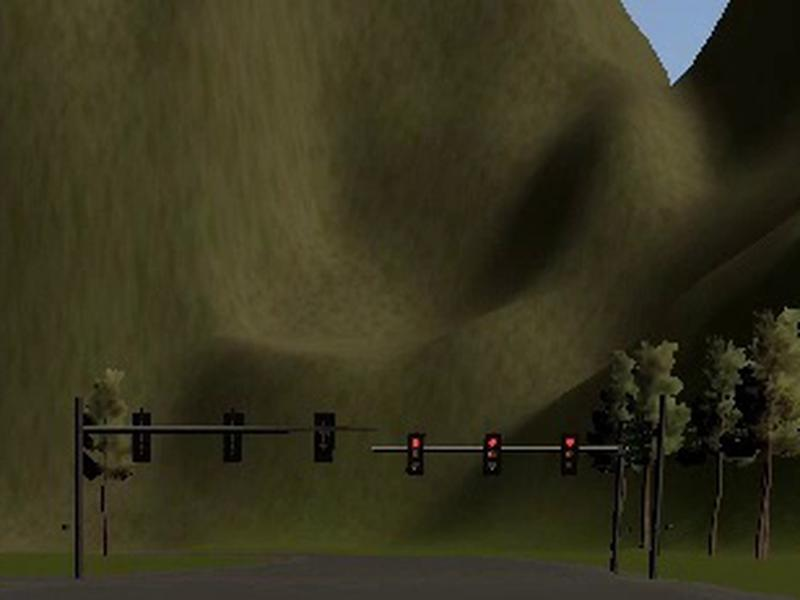Green: (560, 433, 579, 476), (483, 433, 501, 476), (407, 432, 424, 476)
